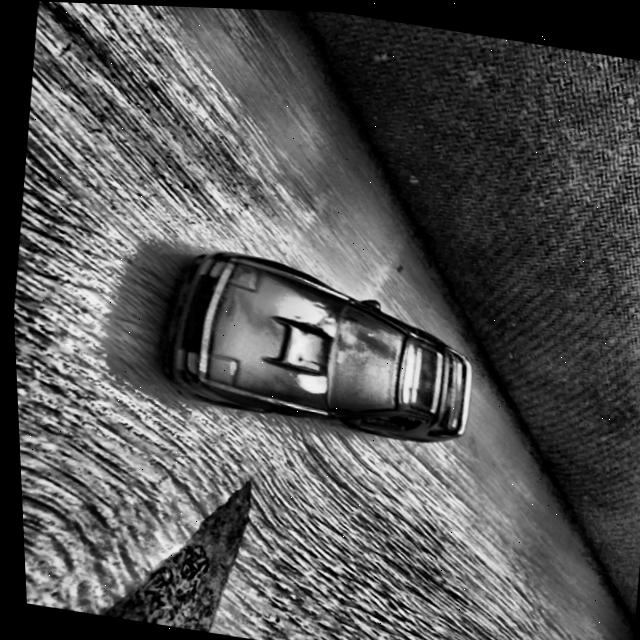car: (148, 240, 482, 447)
